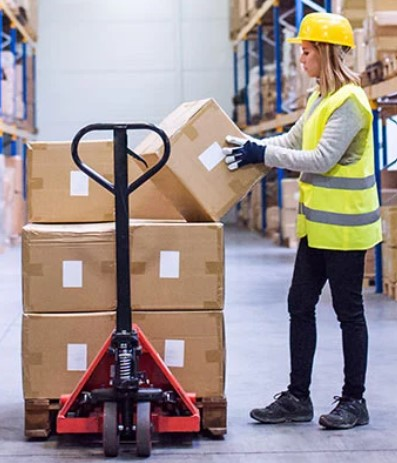worker: (296, 14, 382, 249)
